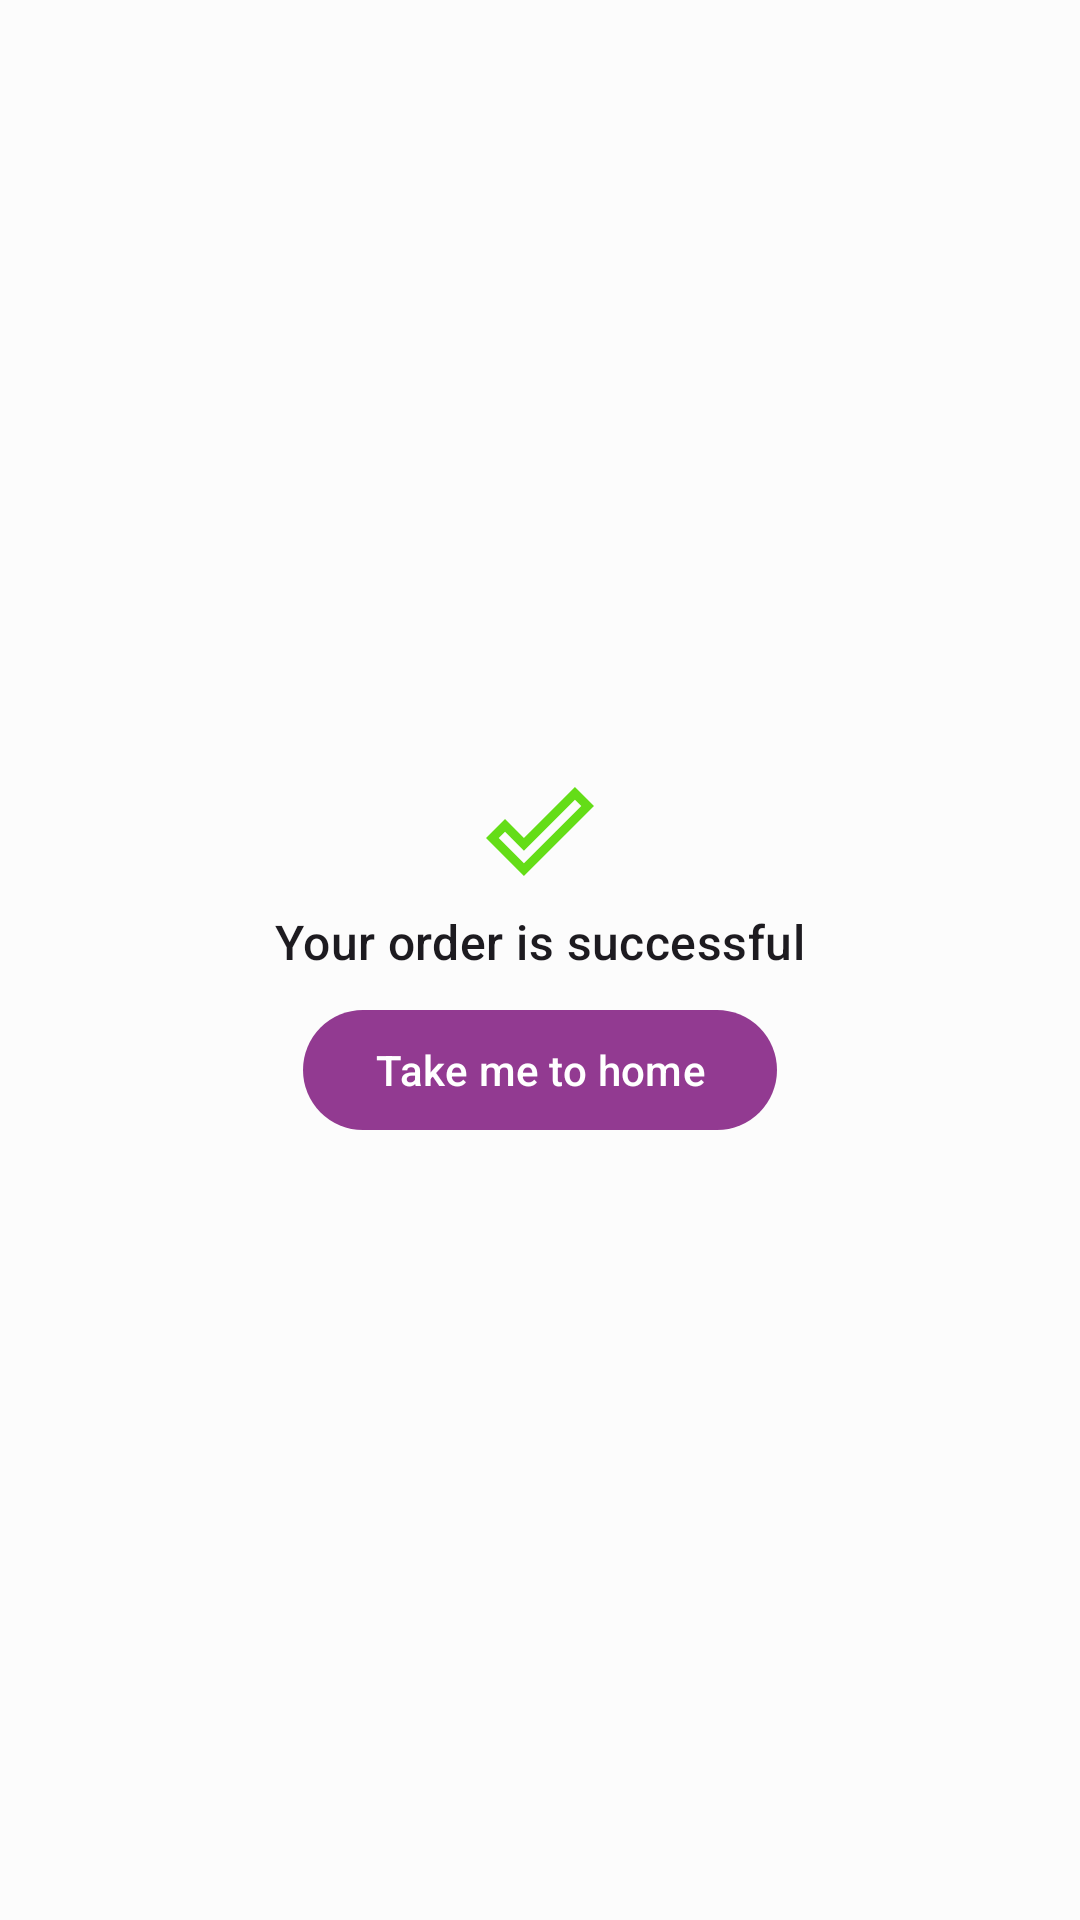

Locate icon controls on the screen. Image size 1080w x 1920h, boxes as (x1, y1, x2, y2).
done: (486, 787, 594, 876)
